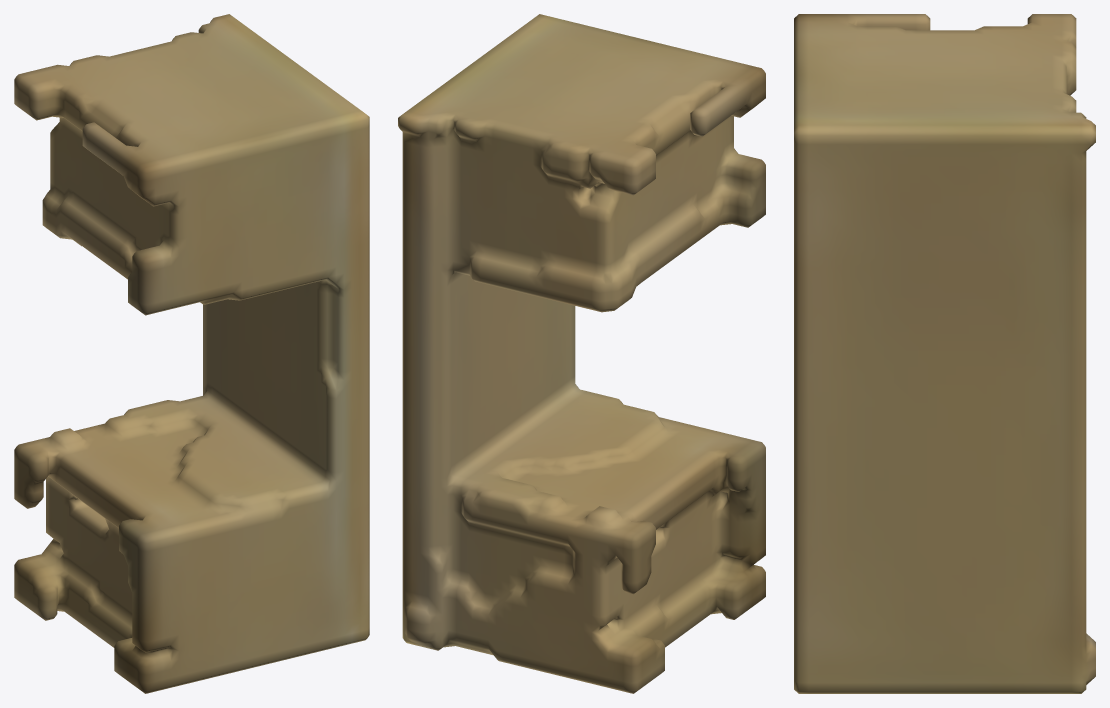
Rendered from Light wooden desk with five narrow drawers either .glb.
3 views of the same model, side by side, from view 1: azimuth 30°, elevation 25°; view 2: azimuth 150°, elevation 25°; view 3: azimuth 270°, elevation 25° (orthographic). The views are drawn at different scales.
Parts seen in each view (by area): view 1: Light wooden desk with five narrow drawers either; view 2: Light wooden desk with five narrow drawers either; view 3: Light wooden desk with five narrow drawers either.
Boxes of the visible parts, bbox=[...] form: Light wooden desk with five narrow drawers either: bbox=[14, 14, 369, 693]; Light wooden desk with five narrow drawers either: bbox=[398, 14, 765, 693]; Light wooden desk with five narrow drawers either: bbox=[794, 14, 1095, 693].
Size of the model in its own units: 29 by 64 by 31.
